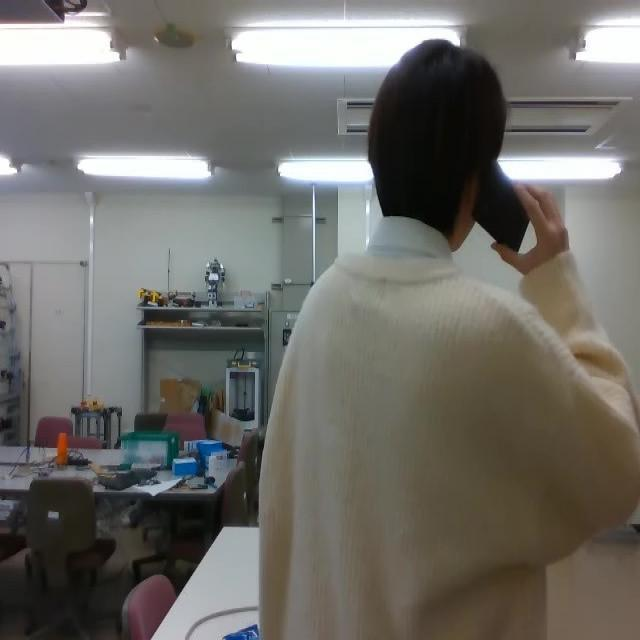Phone: (469, 155, 533, 254)
